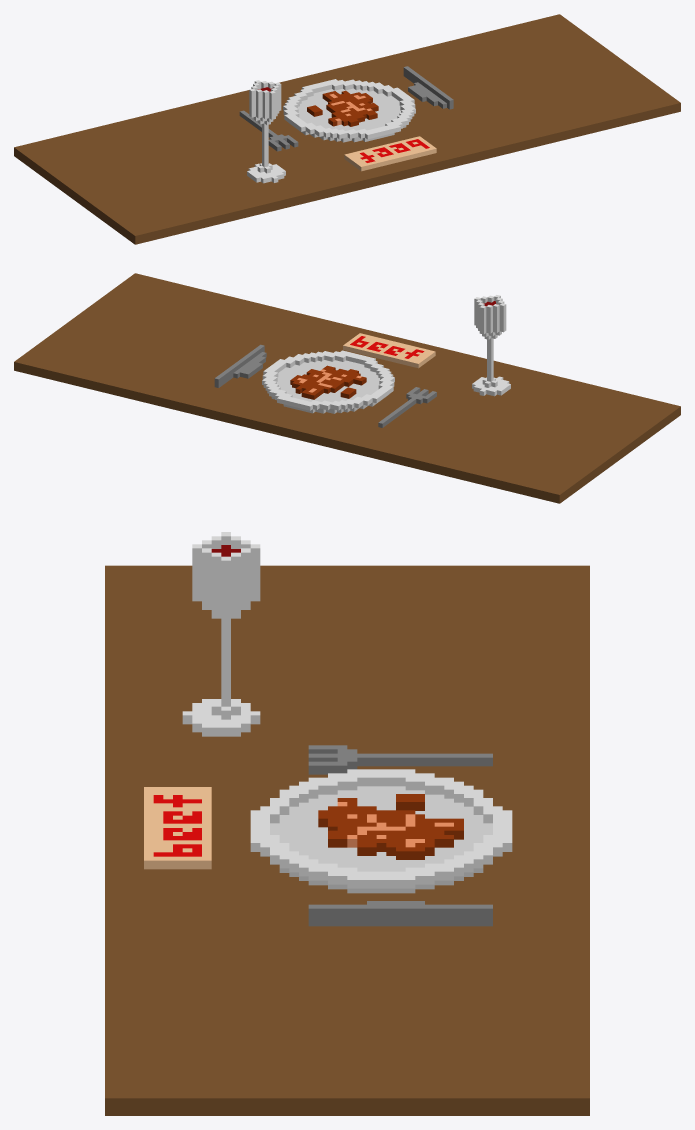
Rendered from lose_table_no lose.fbx.
3 renders of one model, top to bottom at view 1: azimuth 30°, elevation 25°; view 2: azimuth 150°, elevation 25°; view 3: azimuth 270°, elevation 25°, orthographic. The views are drawn at different scales.
Parts seen in each view (by area): view 1: Polygon, Polygon_2, Polygon_1; view 2: Polygon, Polygon_2, Polygon_1; view 3: Polygon, Polygon_2, Polygon_1.
Boxes of the visible parts, x1=… form: Polygon: x1=14, y1=14, x2=680, y2=244; Polygon_2: x1=247, y1=80, x2=285, y2=183; Polygon_1: x1=344, y1=136, x2=436, y2=171; Polygon: x1=14, y1=273, x2=680, y2=503; Polygon_2: x1=472, y1=295, x2=510, y2=396; Polygon_1: x1=343, y1=333, x2=435, y2=368; Polygon: x1=105, y1=565, x2=589, y2=1115; Polygon_2: x1=182, y1=532, x2=260, y2=736; Polygon_1: x1=144, y1=787, x2=211, y2=869.
Bounding box in the file's own units: 13 × 2.2 × 5.
Materials: 3 (3 with a texture image).
